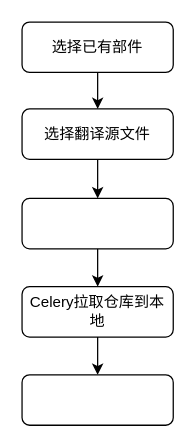
Image size: 195x447. Some labels were removed from this diagram. The centre of each missing label's shape, as x and y in pixels:
"填写翻译部件信息" goes at [97,223].
"完成新的部件创建" goes at [97,399].
